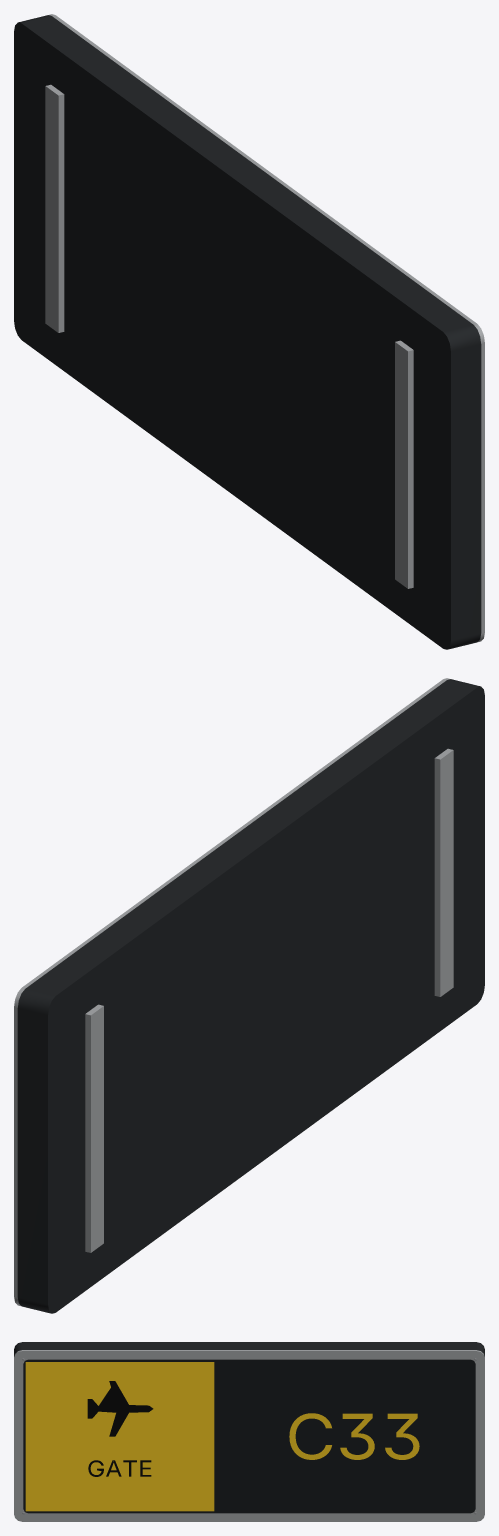
The model's file is gate_sign_c33.glb.
3 views of the same model, one above another, from view 1: azimuth 30°, elevation 25°; view 2: azimuth 150°, elevation 25°; view 3: azimuth 270°, elevation 25° (orthographic). The views are drawn at different scales.
Visible parts, largest first — view 1: gateschild_1, gateschild_0; view 2: gateschild_1, gateschild_0; view 3: gateschild_2, gateschild_3, gateschild_0, gateschild_1, nummer, gateschild_4, gate.
Boxes of the visible parts, <box> form: gateschild_1: <box>14,15,481,649</box>; gateschild_0: <box>45,14,484,641</box>; gateschild_1: <box>17,679,484,1313</box>; gateschild_0: <box>14,678,453,1305</box>; gateschild_2: <box>23,1359,475,1513</box>; gateschild_3: <box>25,1362,214,1511</box>; gateschild_0: <box>14,1350,484,1521</box>; gateschild_1: <box>14,1342,484,1356</box>; nummer: <box>289,1413,419,1459</box>; gateschild_4: <box>87,1381,153,1436</box>; gate: <box>88,1460,151,1476</box>.
Bounding box in the file's own units: 0.1077 × 0.8 × 2.
